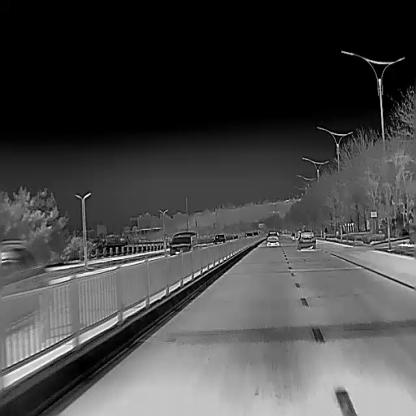car: (0, 237, 55, 340), (168, 231, 198, 255), (296, 229, 316, 249), (265, 230, 280, 247), (212, 233, 225, 244)
